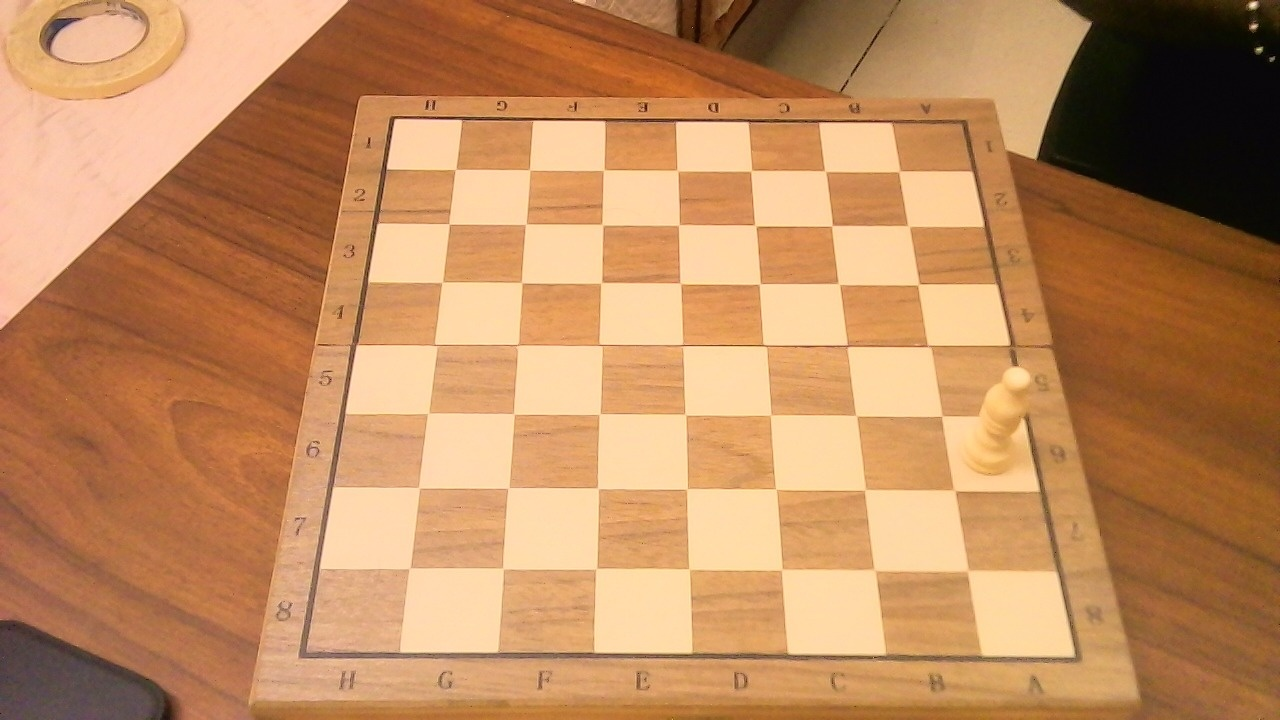B: (956, 353, 1042, 480)
